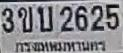2: (90, 4, 103, 30), (59, 5, 72, 31)
3: (1, 7, 13, 32)
5: (105, 3, 118, 29)
6: (74, 5, 87, 30)
A02: (17, 6, 32, 32)
A26: (36, 5, 52, 31)
BKK: (12, 38, 108, 53)
